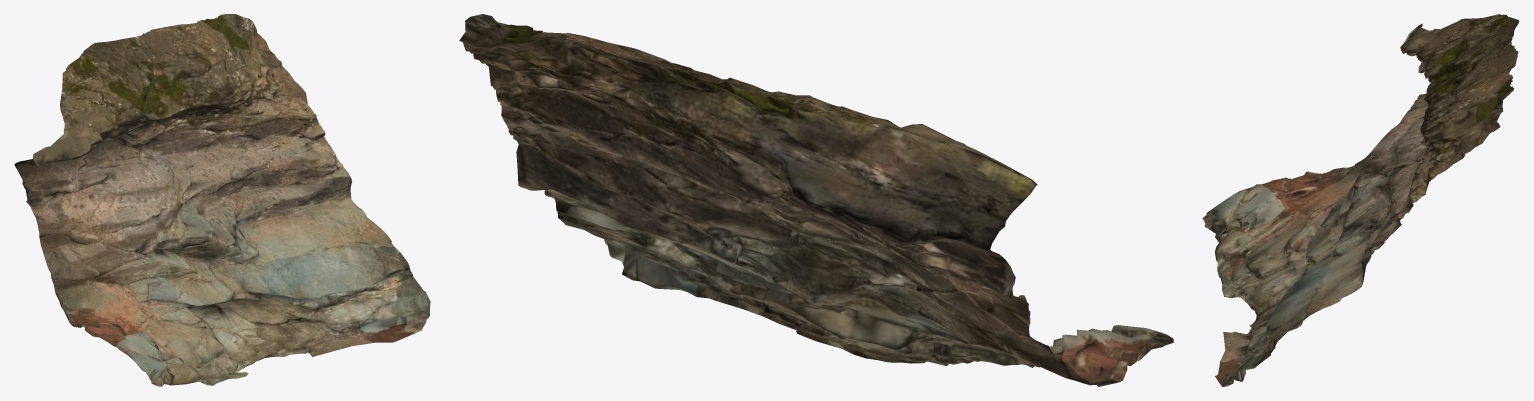
Rendered from rock_face_01.glb.
3 views of the same model, side by side, from view 1: azimuth 30°, elevation 25°; view 2: azimuth 150°, elevation 25°; view 3: azimuth 270°, elevation 25° (orthographic). The views are drawn at different scales.
Parts seen in each view (by area): view 1: rock_face_01; view 2: rock_face_01; view 3: rock_face_01.
Part boxes in pixels (x1=…): rock_face_01: x1=14, y1=14, x2=430, y2=386; rock_face_01: x1=459, y1=14, x2=1173, y2=386; rock_face_01: x1=1202, y1=14, x2=1519, y2=386.
Size of the model in its own units: 4.95 by 3.56 by 3.83.
Materials: 1 (1 with a texture image).
